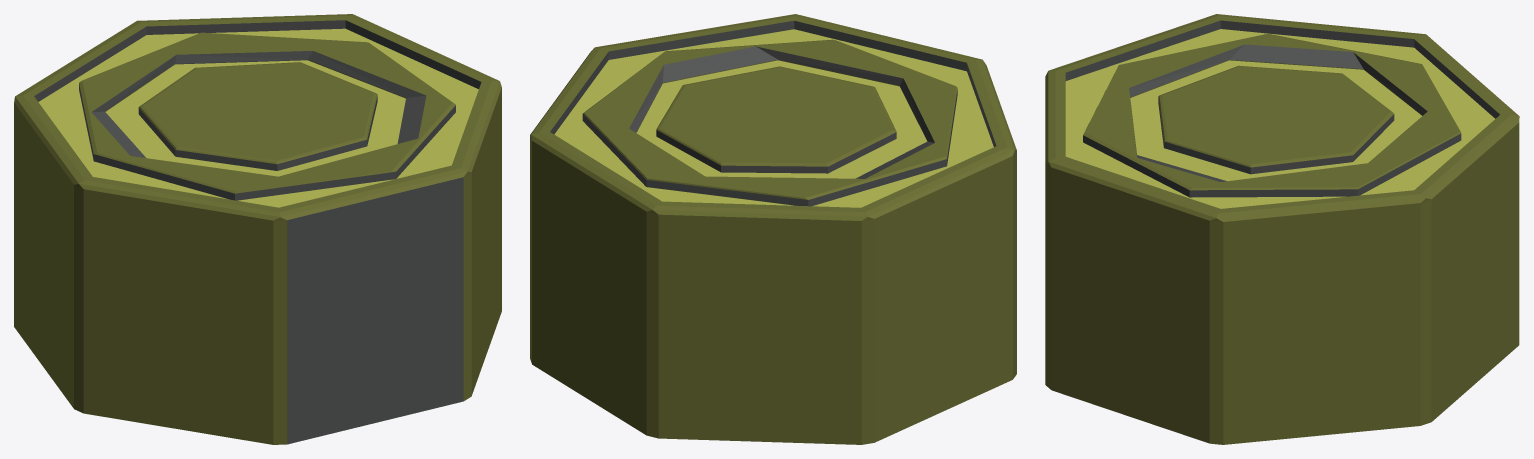
Rendered from gold_wall.fbx.
The picture shows the model from 3 angles, left to right: view 1: azimuth 30°, elevation 25°; view 2: azimuth 150°, elevation 25°; view 3: azimuth 270°, elevation 25°; orthographic projection.
Parts seen in each view (by area): view 1: gold_wall_body; view 2: gold_wall_body; view 3: gold_wall_body.
Boxes of the visible parts, bbox=[...] form: gold_wall_body: bbox=[14, 14, 501, 444]; gold_wall_body: bbox=[530, 14, 1016, 444]; gold_wall_body: bbox=[1045, 14, 1519, 444].
Bounding box in the file's own units: 3.87 × 2 × 3.78.
Materials: 1 (1 with a texture image).
